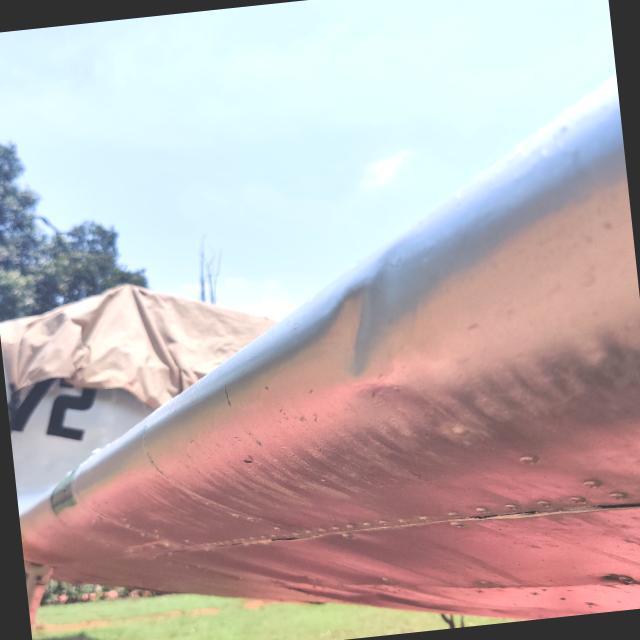dent: (289, 245, 426, 408)
